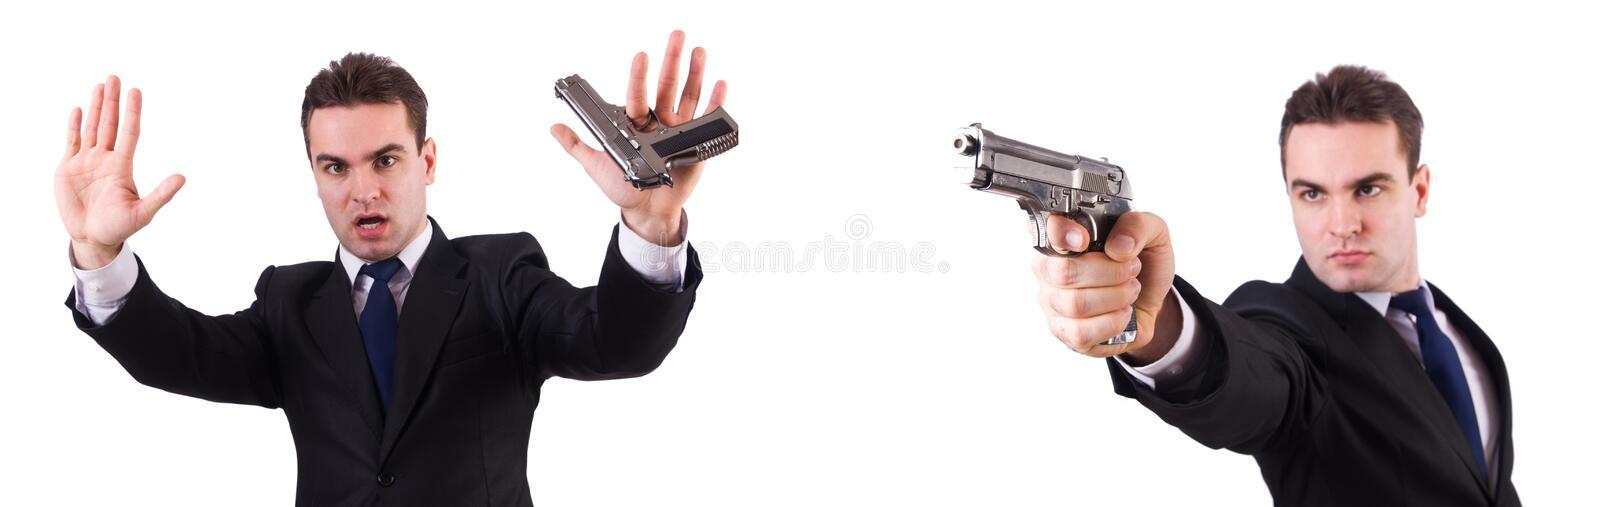criminal: (56, 26, 744, 507), (949, 62, 1523, 507)
weapon: (949, 115, 1145, 350), (550, 70, 744, 194)
